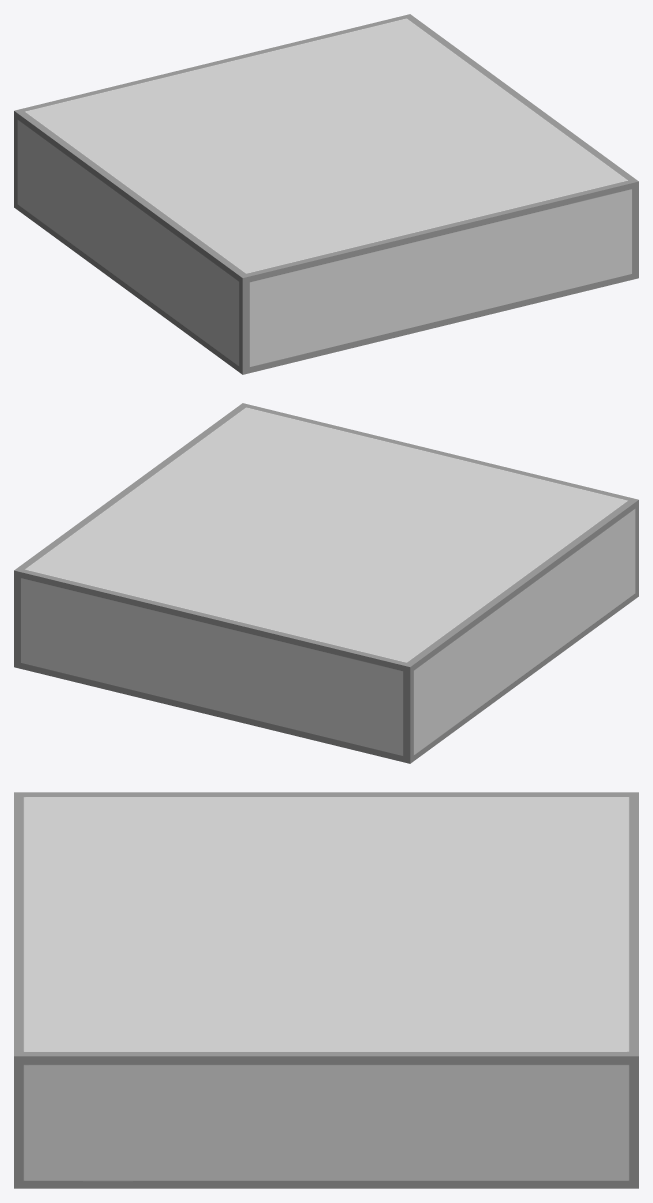
File: jalan kecil.fbx
3 views of the same model, one above another, from view 1: azimuth 30°, elevation 25°; view 2: azimuth 150°, elevation 25°; view 3: azimuth 270°, elevation 25° (orthographic). The views are drawn at different scales.
Parts seen in each view (by area): view 1: jalan; view 2: jalan; view 3: jalan.
Boxes of the visible parts, x1,y1,x2,y2 form: jalan: (14, 14, 638, 374); jalan: (14, 403, 638, 763); jalan: (14, 792, 638, 1188).
Size of the model in its own units: 300 by 70 by 300.
Materials: 1 (1 with a texture image).
